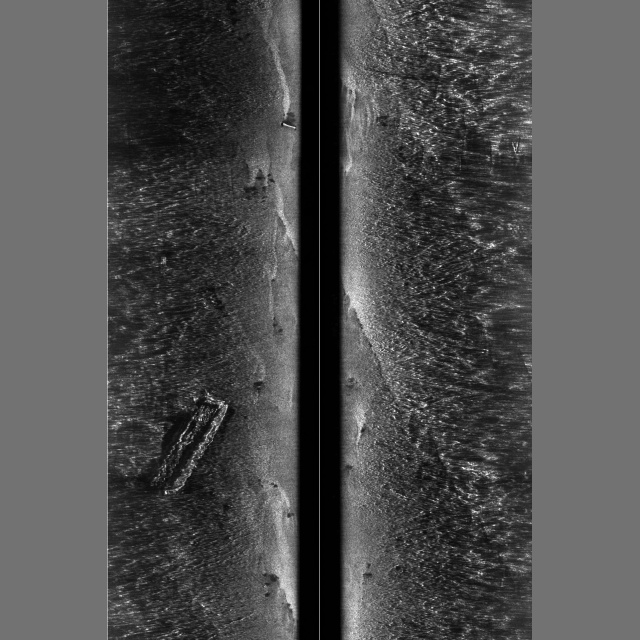Shipwreck: (150, 122, 519, 495)
